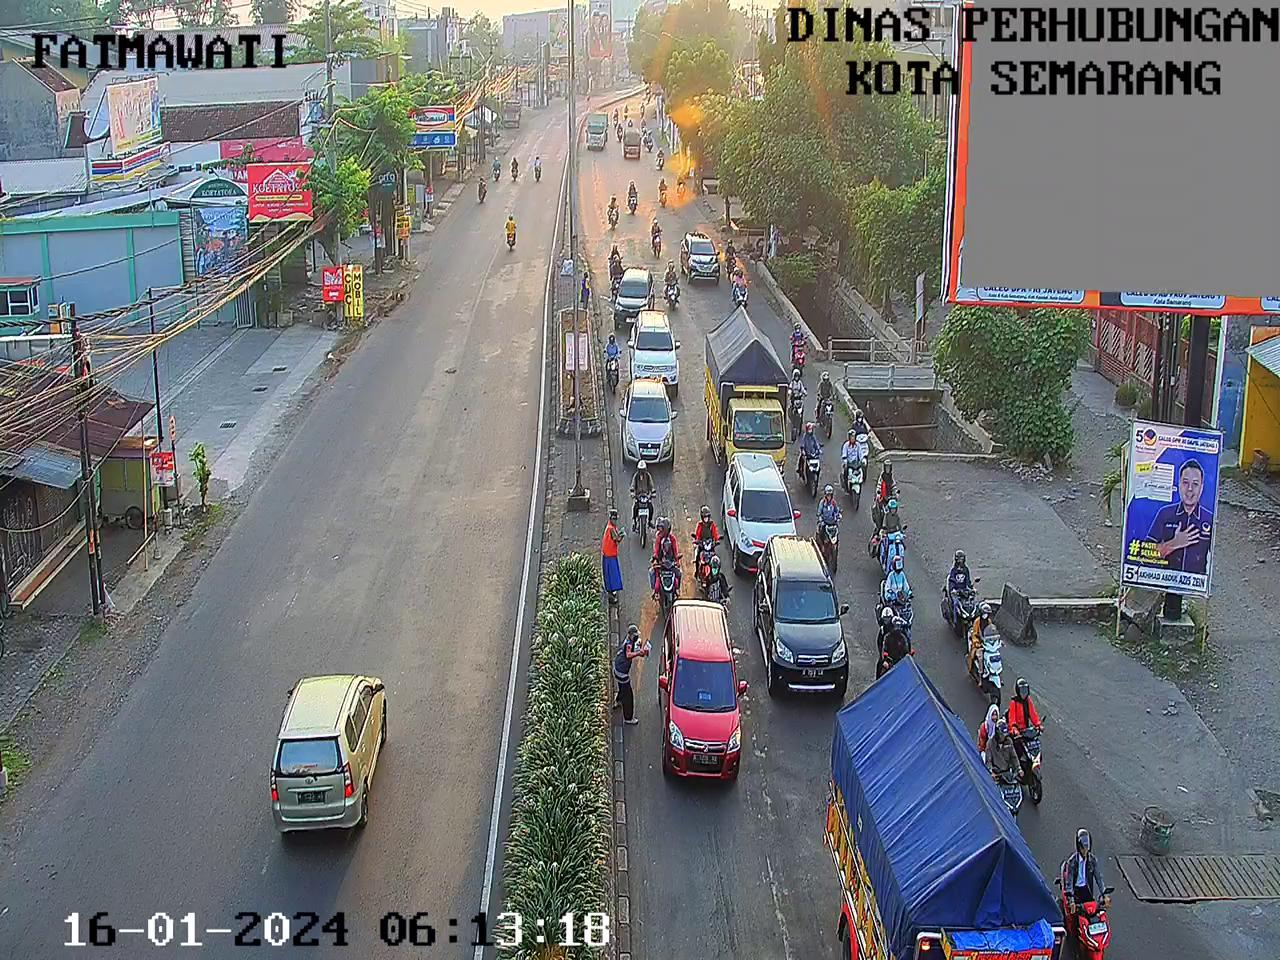car: (652, 595, 751, 791), (752, 531, 852, 709), (717, 451, 804, 574), (620, 376, 678, 470), (626, 309, 684, 397), (609, 265, 654, 326), (678, 228, 722, 286), (619, 126, 644, 161)
motorcycle: (1056, 820, 1121, 960), (969, 702, 1026, 820), (1002, 674, 1051, 803), (953, 599, 1010, 704), (880, 550, 919, 642), (812, 480, 847, 571), (938, 544, 974, 631), (650, 518, 685, 606), (868, 609, 911, 674), (691, 502, 725, 586), (791, 418, 825, 499), (875, 501, 909, 576), (630, 461, 659, 548), (836, 428, 867, 507), (874, 458, 906, 529), (782, 364, 812, 435), (816, 367, 840, 448), (784, 324, 811, 376), (705, 554, 730, 603), (662, 261, 683, 312), (605, 336, 622, 391), (850, 405, 875, 439), (607, 259, 625, 301), (731, 267, 750, 306), (649, 217, 666, 258), (724, 237, 739, 276), (606, 195, 620, 228), (675, 172, 690, 203), (627, 182, 640, 214), (659, 175, 670, 207), (653, 148, 667, 171), (645, 125, 656, 152), (614, 122, 623, 140), (638, 101, 647, 117), (639, 117, 648, 133), (610, 245, 619, 259), (644, 88, 651, 101), (623, 104, 629, 119), (613, 109, 618, 123), (626, 115, 632, 125)
truck: (816, 656, 1075, 960), (699, 301, 796, 476), (586, 107, 608, 153)
